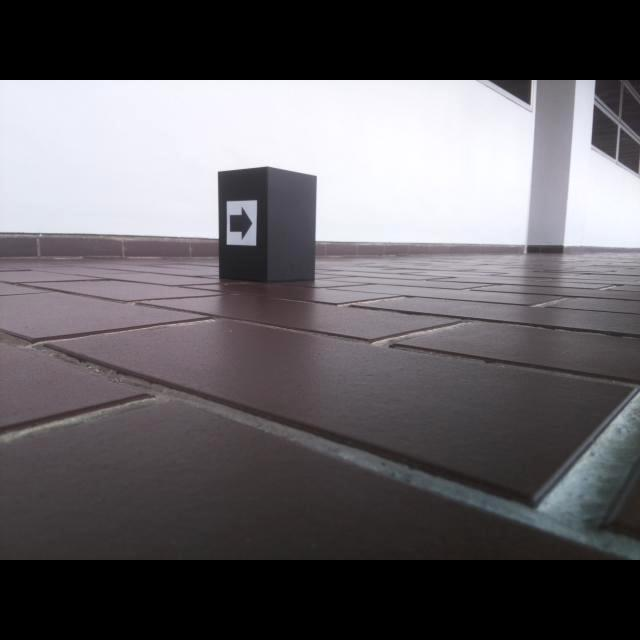RIGHT: (229, 205, 253, 242)
